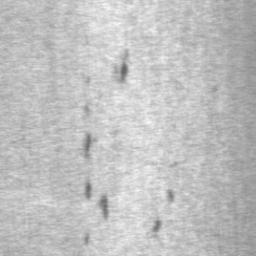Iron scale compression: (118, 48, 128, 83), (99, 193, 109, 222), (86, 134, 92, 158), (167, 189, 175, 206), (85, 181, 92, 200), (82, 232, 90, 247), (152, 220, 161, 232)
